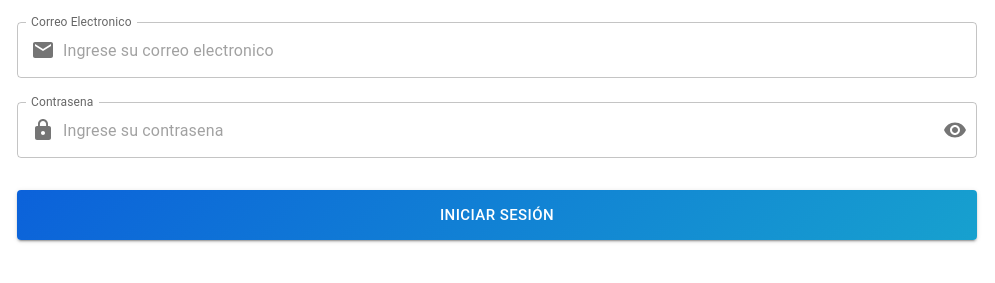
Test: LoginForm › Validation › shows error for invalid email format
In the field labelled "Correo Electronico": [520, 50] box [63, 22, 977, 78], type "invalid"
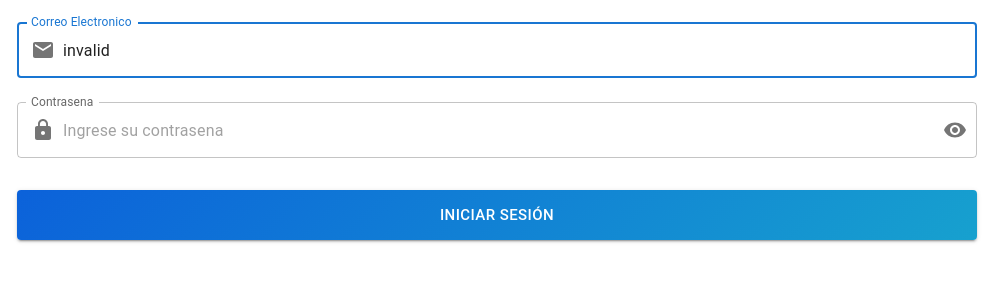
In the password field labelled "Contrasena": [495, 130] box [63, 102, 927, 158], type "password123"
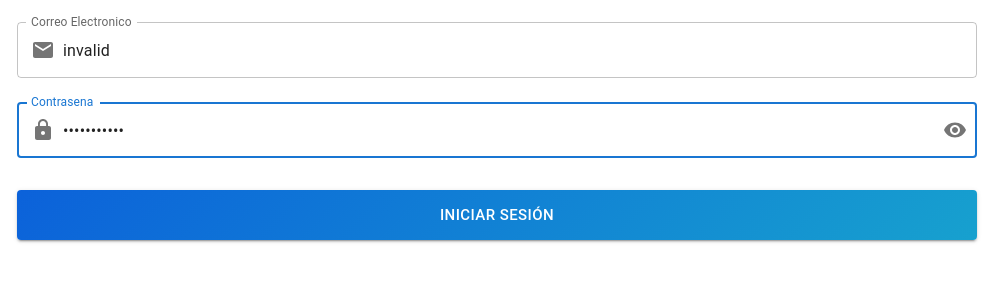
Click the button "Iniciar sesión": [497, 215] box [17, 190, 977, 240]
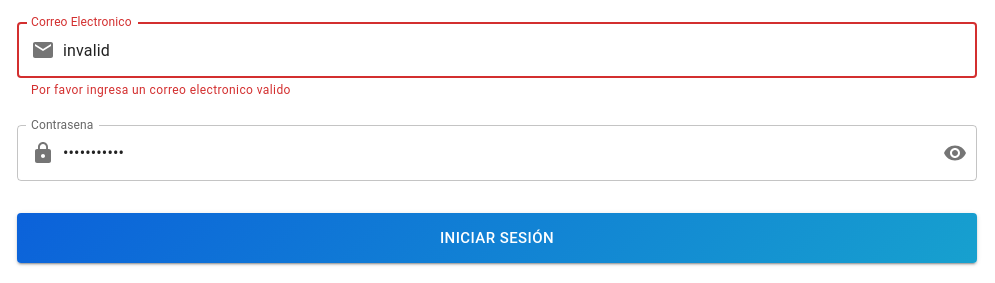
Now the text "Por favor ingresa un correo electronico valido" is shown, box [31, 83, 291, 97]
